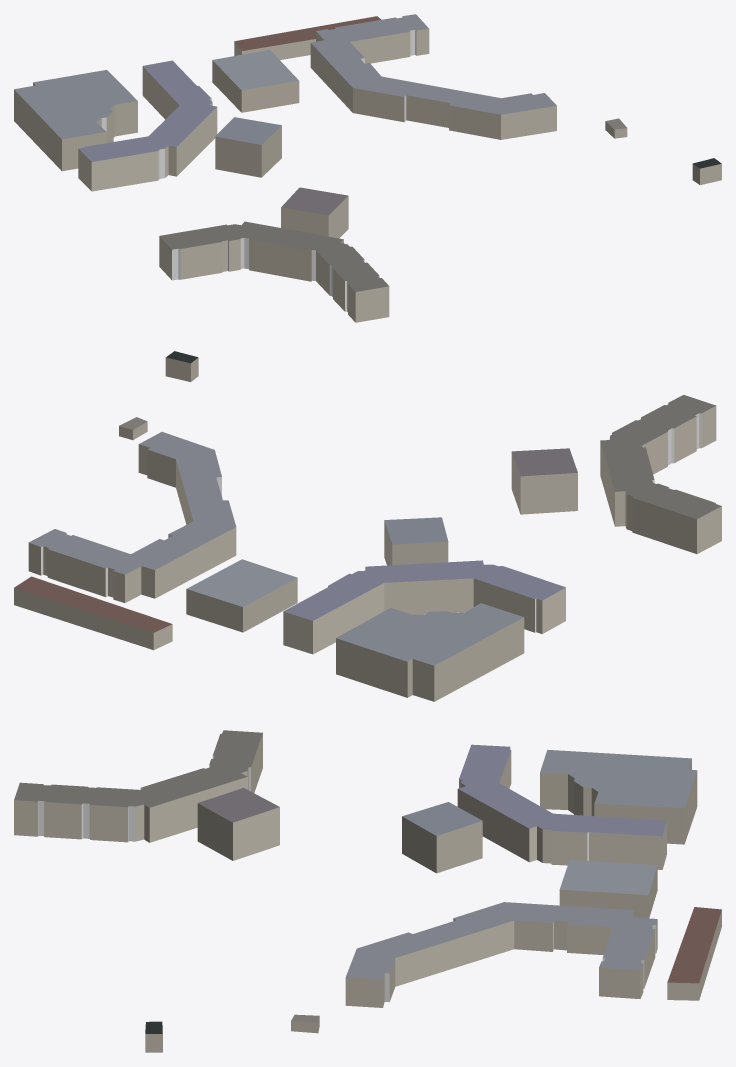
The picture shows the model from 3 angles, top to bottom: view 1: azimuth 30°, elevation 25°; view 2: azimuth 150°, elevation 25°; view 3: azimuth 270°, elevation 25°; orthographic projection. The views are drawn at different scales.
Parts seen in each view (by area): view 1: tuile; view 2: tuile; view 3: tuile.
Part boxes in pixels (x1,y1,x2,y2): tuile: [14, 14, 721, 322]; tuile: [14, 351, 721, 701]; tuile: [14, 730, 721, 1052].
Size of the model in its own units: 265 by 20.81 by 277.
